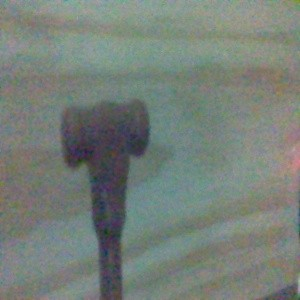palu: (60, 98, 151, 300)
